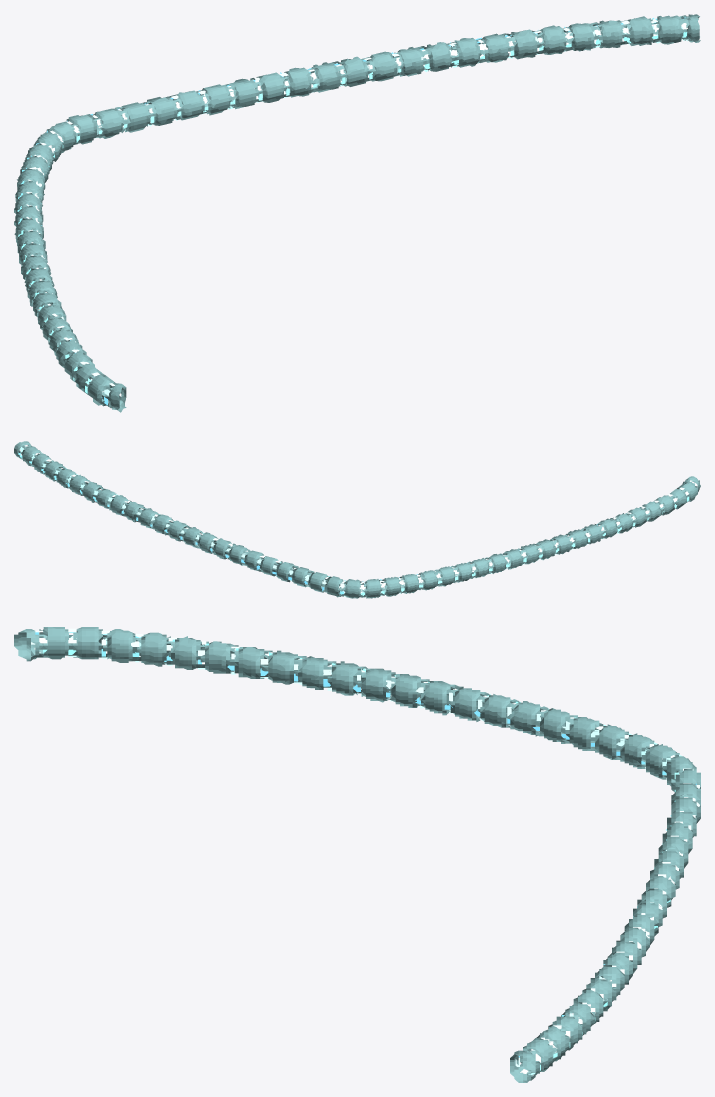
The model's file is compressed_BigCables_3.glb.
3 views of the same model, one above another, from view 1: azimuth 30°, elevation 25°; view 2: azimuth 150°, elevation 25°; view 3: azimuth 270°, elevation 25° (orthographic). The views are drawn at different scales.
Parts seen in each view (by area): view 1: PowerCableBig5, PowerCableBig5Lights; view 2: PowerCableBig5, PowerCableBig5Lights; view 3: PowerCableBig5, PowerCableBig5Lights.
Part boxes in pixels (<box>): PowerCableBig5: <box>14,14,700,412</box>; PowerCableBig5Lights: <box>16,17,688,405</box>; PowerCableBig5: <box>14,441,700,598</box>; PowerCableBig5Lights: <box>18,445,697,597</box>; PowerCableBig5: <box>14,627,700,1082</box>; PowerCableBig5Lights: <box>31,628,699,1075</box>.
Size of the model in its own units: 8.45 by 0.4306 by 5.37.
